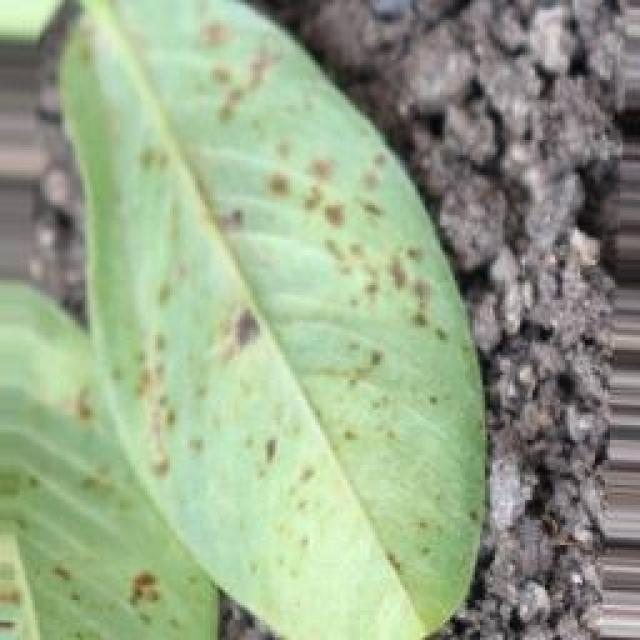Whitefly: (0, 0, 441, 616)
